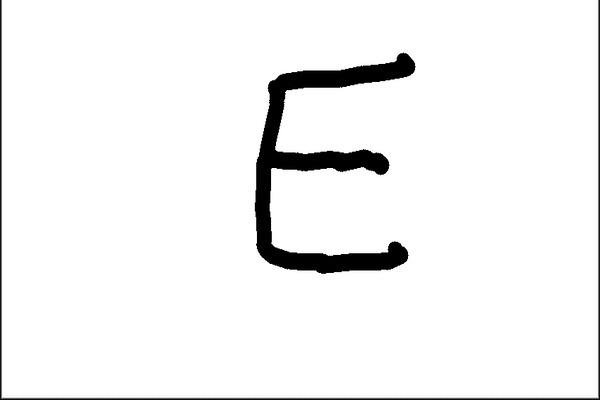E: (247, 46, 420, 286)
